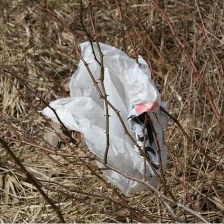plastic_bag: (37, 38, 175, 200)
